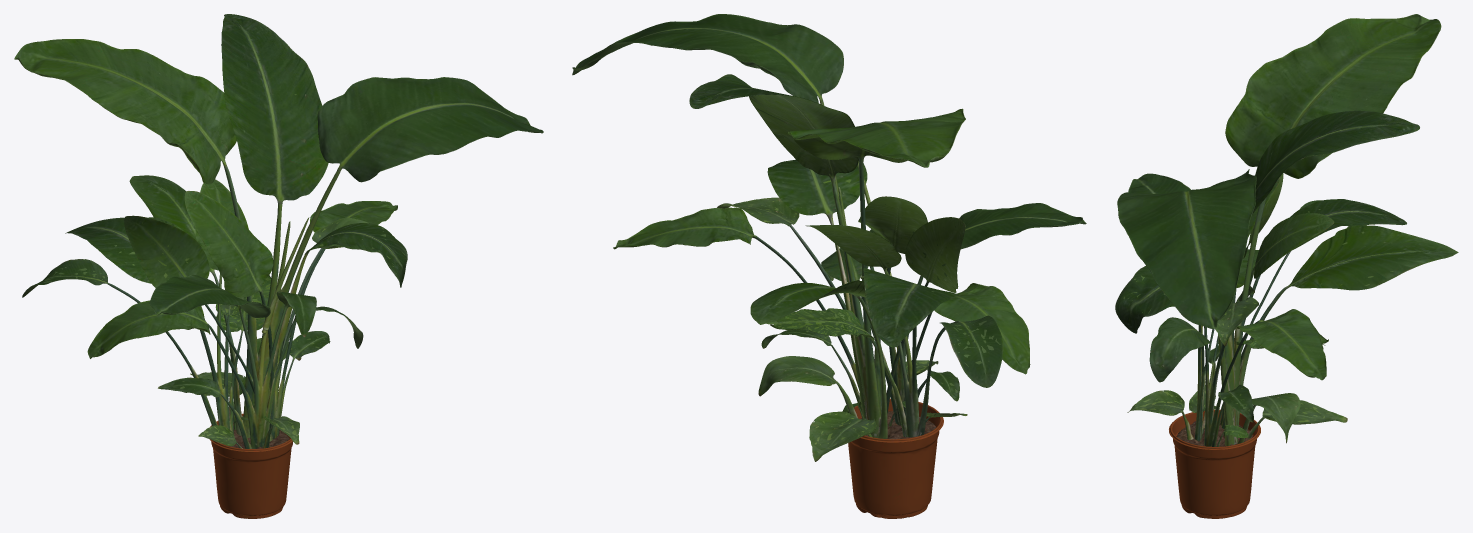
File: plant.dae
3 renders of one model, left to right at view 1: azimuth 30°, elevation 25°; view 2: azimuth 150°, elevation 25°; view 3: azimuth 270°, elevation 25°, orthographic. The views are drawn at different scales.
Visible parts, largest first — view 1: 20466253; view 2: 20466253; view 3: 20466253.
Boxes of the visible parts, x1,y1,x2,y2 form: 20466253: (14,14,543,518); 20466253: (572,14,1086,518); 20466253: (1115,14,1458,518).
Bounding box in the file's own units: 1.11 × 0.7203 × 0.9826.
Materials: 1 (1 with a texture image).
